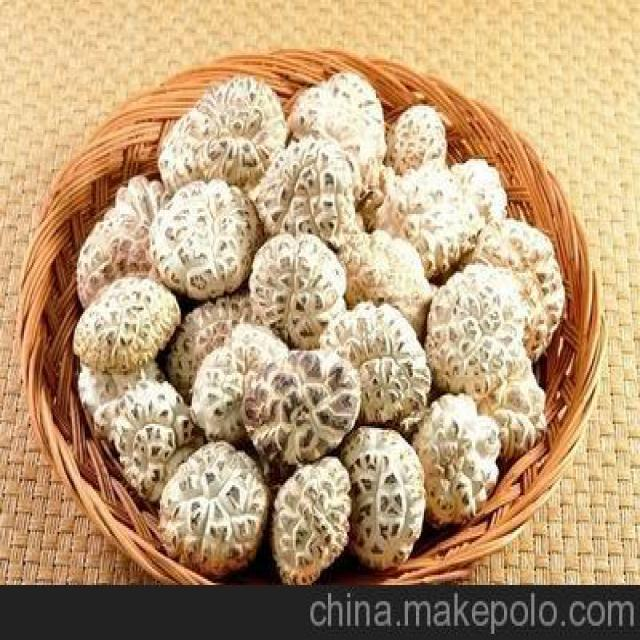Lentinus edodes: (158, 441, 265, 577), (158, 78, 286, 189), (320, 305, 432, 424), (469, 221, 563, 359), (424, 267, 525, 395), (243, 353, 363, 460), (149, 181, 258, 297), (79, 176, 173, 306), (96, 380, 196, 502), (292, 70, 386, 195), (340, 430, 425, 562), (413, 395, 502, 521), (375, 172, 482, 272), (254, 142, 358, 240), (250, 234, 344, 340), (73, 278, 180, 370), (274, 457, 350, 580), (389, 105, 450, 173)
